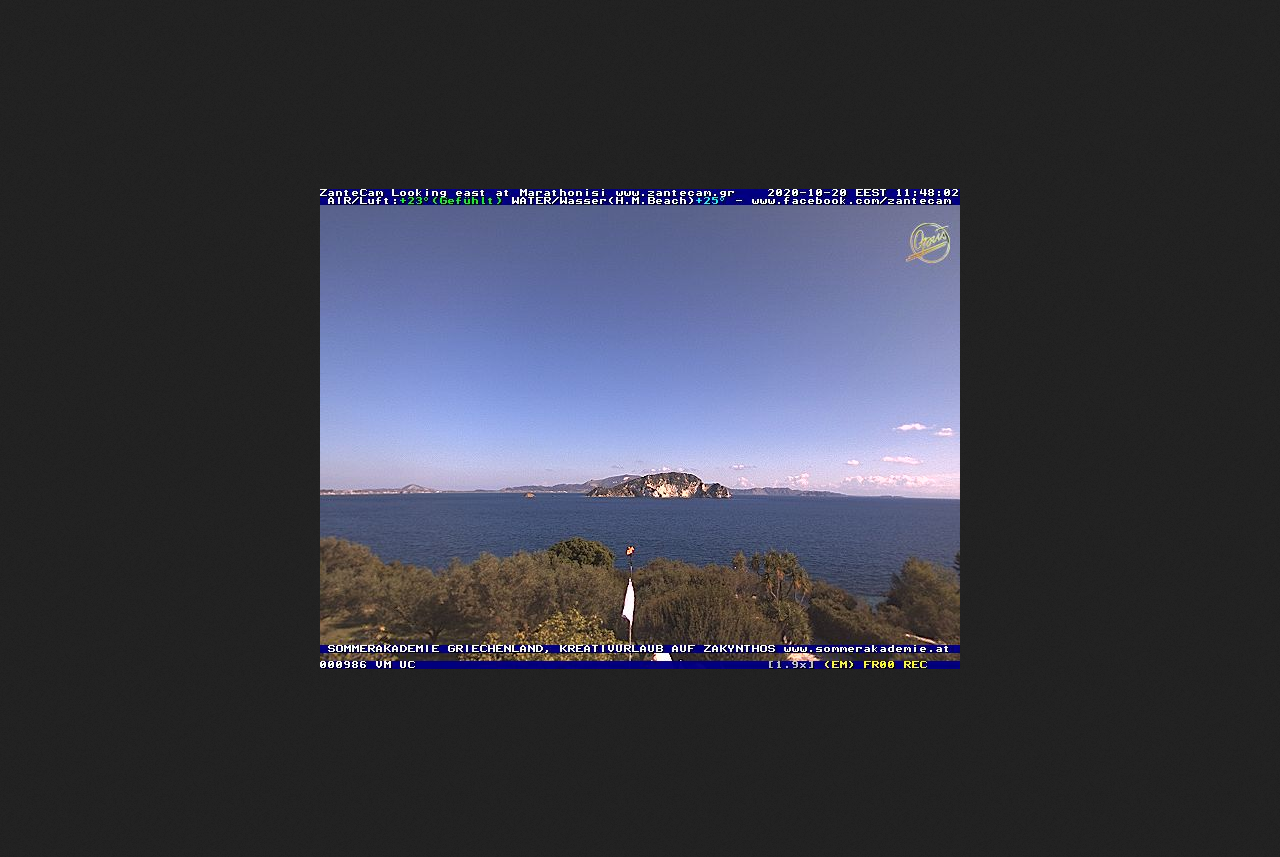no: (616, 576, 638, 627)
